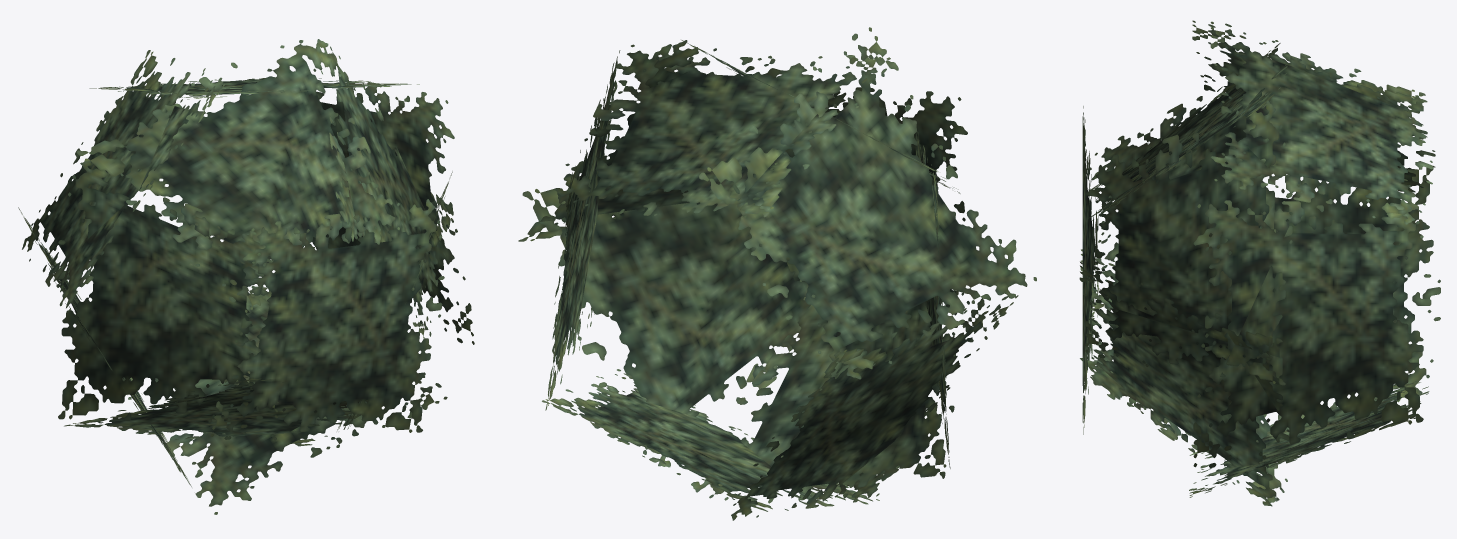
Rendered from bush-small-15-juniper.obj.
3 renders of one model, left to right at view 1: azimuth 30°, elevation 25°; view 2: azimuth 150°, elevation 25°; view 3: azimuth 270°, elevation 25°, orthographic. The views are drawn at different scales.
Size of the model in its own units: 1.09 by 1.05 by 0.7736.
Materials: 1 (1 with a texture image).
